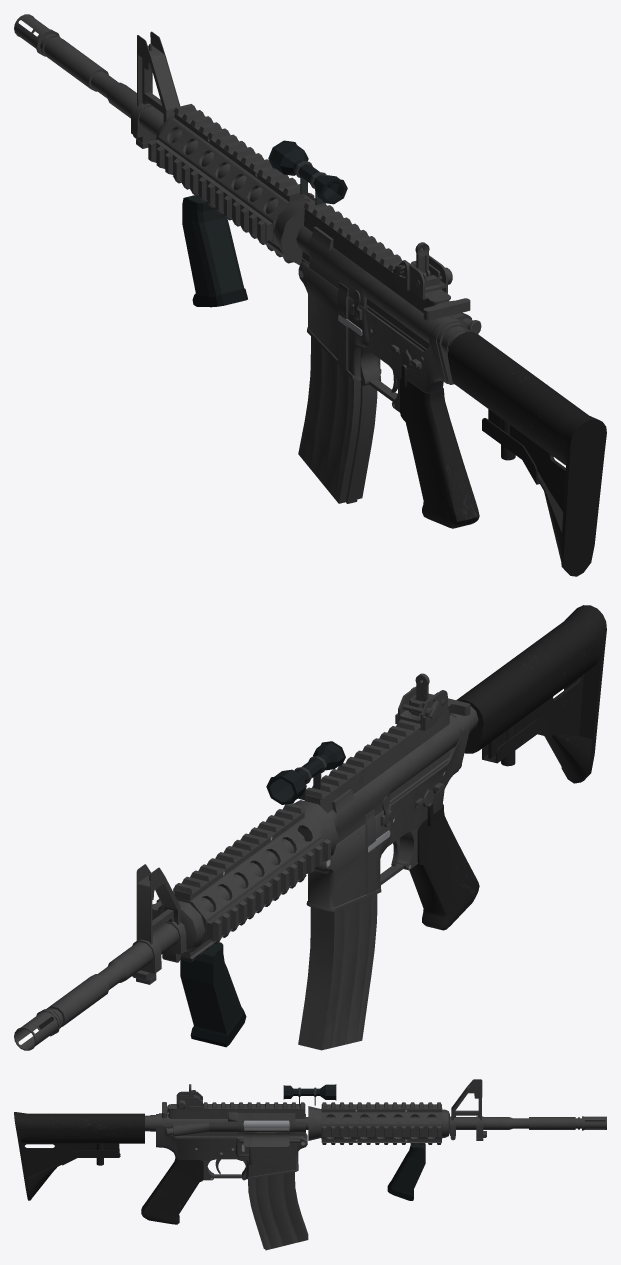
Rendered from fusil.glb.
3 renders of one model, top to bottom at view 1: azimuth 30°, elevation 25°; view 2: azimuth 150°, elevation 25°; view 3: azimuth 270°, elevation 25°, orthographic. The views are drawn at different scales.
Parts seen in each view (by area): view 1: M4A1Body_01_Base, StockGeometry, M4A1Body_00_Barrel, MagazineGeometry, ForegripGeometry, FrontIronSightGeometry, OpticMountGeometry, RearIronSightGeometry_Sight; view 2: M4A1Body_01_Base, M4A1Body_00_Barrel, StockGeometry, MagazineGeometry, ForegripGeometry, OpticMountGeometry, FrontIronSightGeometry, RearIronSightGeometry_Sight, MuzzleDeviceGeometry; view 3: M4A1Body_01_Base, M4A1Body_00_Barrel, StockGeometry, MagazineGeometry, ForegripGeometry, M4A1Body_03_Ejector_Lid, FrontIronSightGeometry, OpticMountGeometry, RearIronSightGeometry_Sight, M4A1Body_02_Ejector_2, MuzzleDeviceGeometry.
Boxes of the visible parts, <box> form: M4A1Body_01_Base: <box>296,200,481,528</box>; StockGeometry: <box>441,326,606,576</box>; M4A1Body_00_Barrel: <box>35,29,315,265</box>; MagazineGeometry: <box>298,336,377,503</box>; ForegripGeometry: <box>182,195,247,307</box>; FrontIronSightGeometry: <box>137,31,180,122</box>; OpticMountGeometry: <box>268,140,347,205</box>; RearIronSightGeometry_Sight: <box>395,255,447,299</box>; M4A1Body_01_Base: <box>304,702,479,930</box>; M4A1Body_00_Barrel: <box>36,800,338,1036</box>; StockGeometry: <box>456,605,606,783</box>; MagazineGeometry: <box>298,894,377,1050</box>; ForegripGeometry: <box>180,942,246,1047</box>; OpticMountGeometry: <box>266,741,345,804</box>; FrontIronSightGeometry: <box>136,864,180,944</box>; RearIronSightGeometry_Sight: <box>395,686,447,730</box>; MuzzleDeviceGeometry: <box>14,1011,57,1050</box>; M4A1Body_01_Base: <box>141,1102,307,1224</box>; M4A1Body_00_Barrel: <box>306,1102,583,1144</box>; StockGeometry: <box>14,1112,155,1200</box>; MagazineGeometry: <box>248,1172,308,1250</box>; ForegripGeometry: <box>387,1143,425,1200</box>; M4A1Body_03_Ejector_Lid: <box>237,1132,296,1146</box>; FrontIronSightGeometry: <box>451,1079,482,1120</box>; OpticMountGeometry: <box>283,1084,336,1105</box>; RearIronSightGeometry_Sight: <box>176,1090,202,1111</box>; M4A1Body_02_Ejector_2: <box>243,1120,289,1128</box>; MuzzleDeviceGeometry: <box>583,1116,606,1129</box>.
Size of the model in its own units: 0.1501 by 0.6285 by 2.03.
5 materials, 1 textured.
